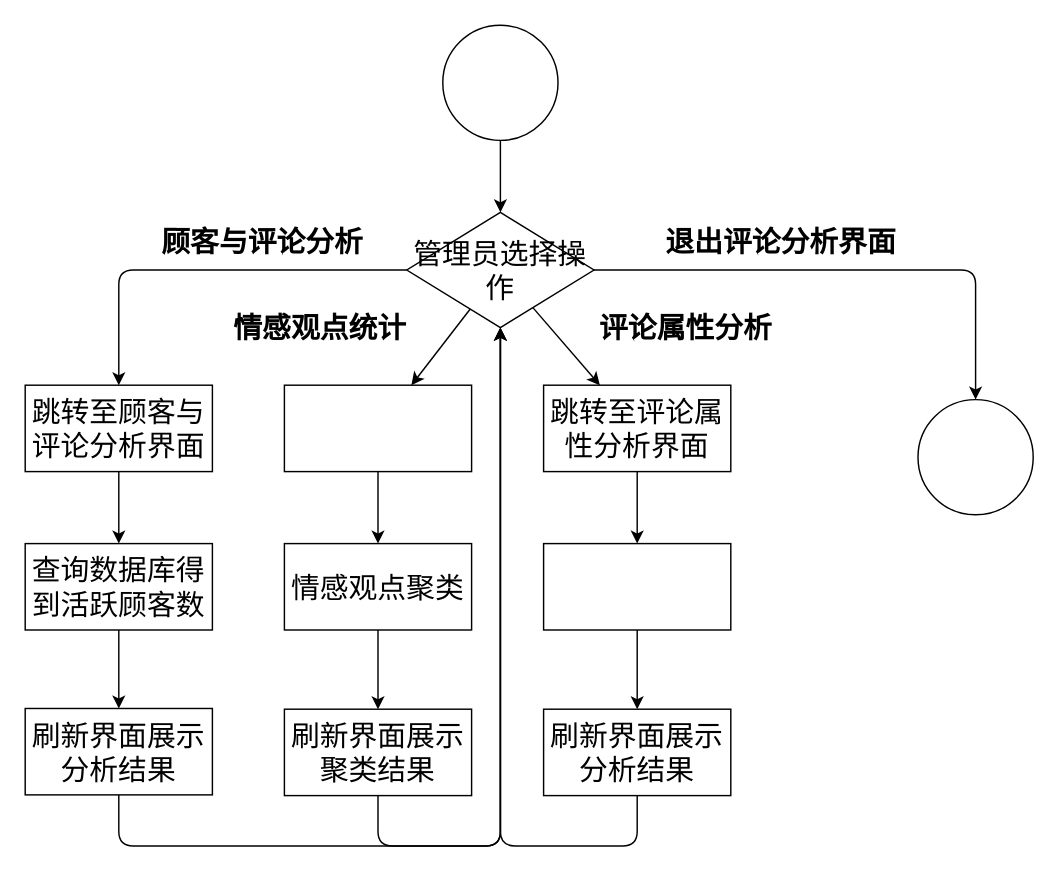
This 1058x883 diagram has some shape labels left out. Each missing label, with the centre of its shape:
分析包含该评论属性的评论: the point at 636,586
开始: the point at 499,82
结束: the point at 975,456
跳转至情感观点统计界面: the point at 377,428
